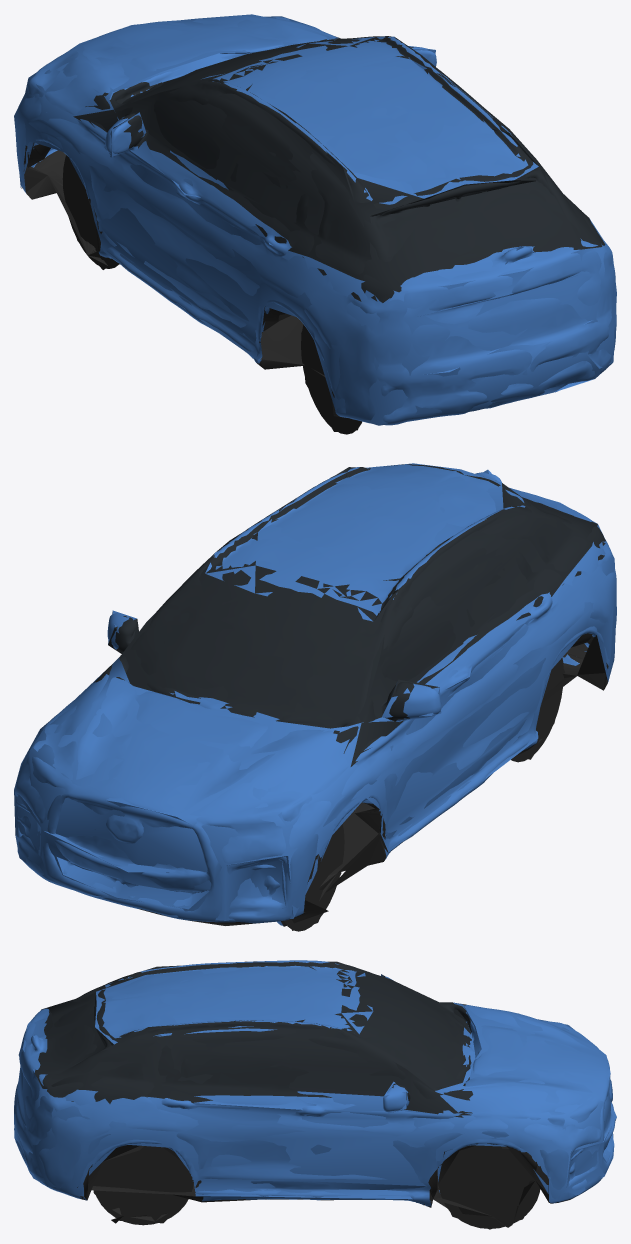
File: infiniti-qx55.glb
The picture shows the model from 3 angles, top to bottom: view 1: azimuth 30°, elevation 25°; view 2: azimuth 150°, elevation 25°; view 3: azimuth 270°, elevation 25°; orthographic projection. The views are drawn at different scales.
Visible parts, largest first — view 1: body, far; view 2: body, far; view 3: body, far.
Part boxes in pixels (x1,y1,x2,y2): body: (15,15,616,434); far: (14,14,616,431); body: (15,464,616,931); far: (14,463,615,930); body: (14,960,615,1228); far: (14,961,616,1229).
Bounding box in the file's own units: 2.29 × 1.73 × 4.74.
